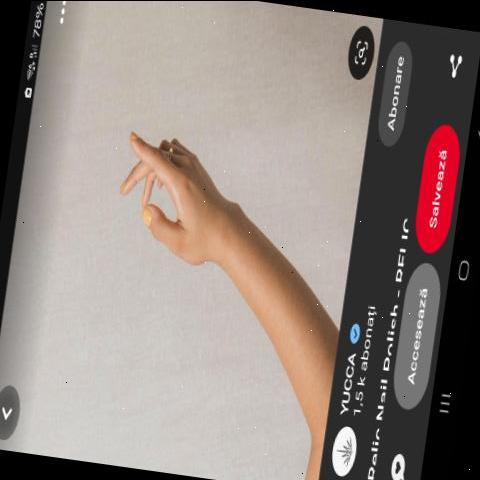Hands: (58, 64, 282, 310)
